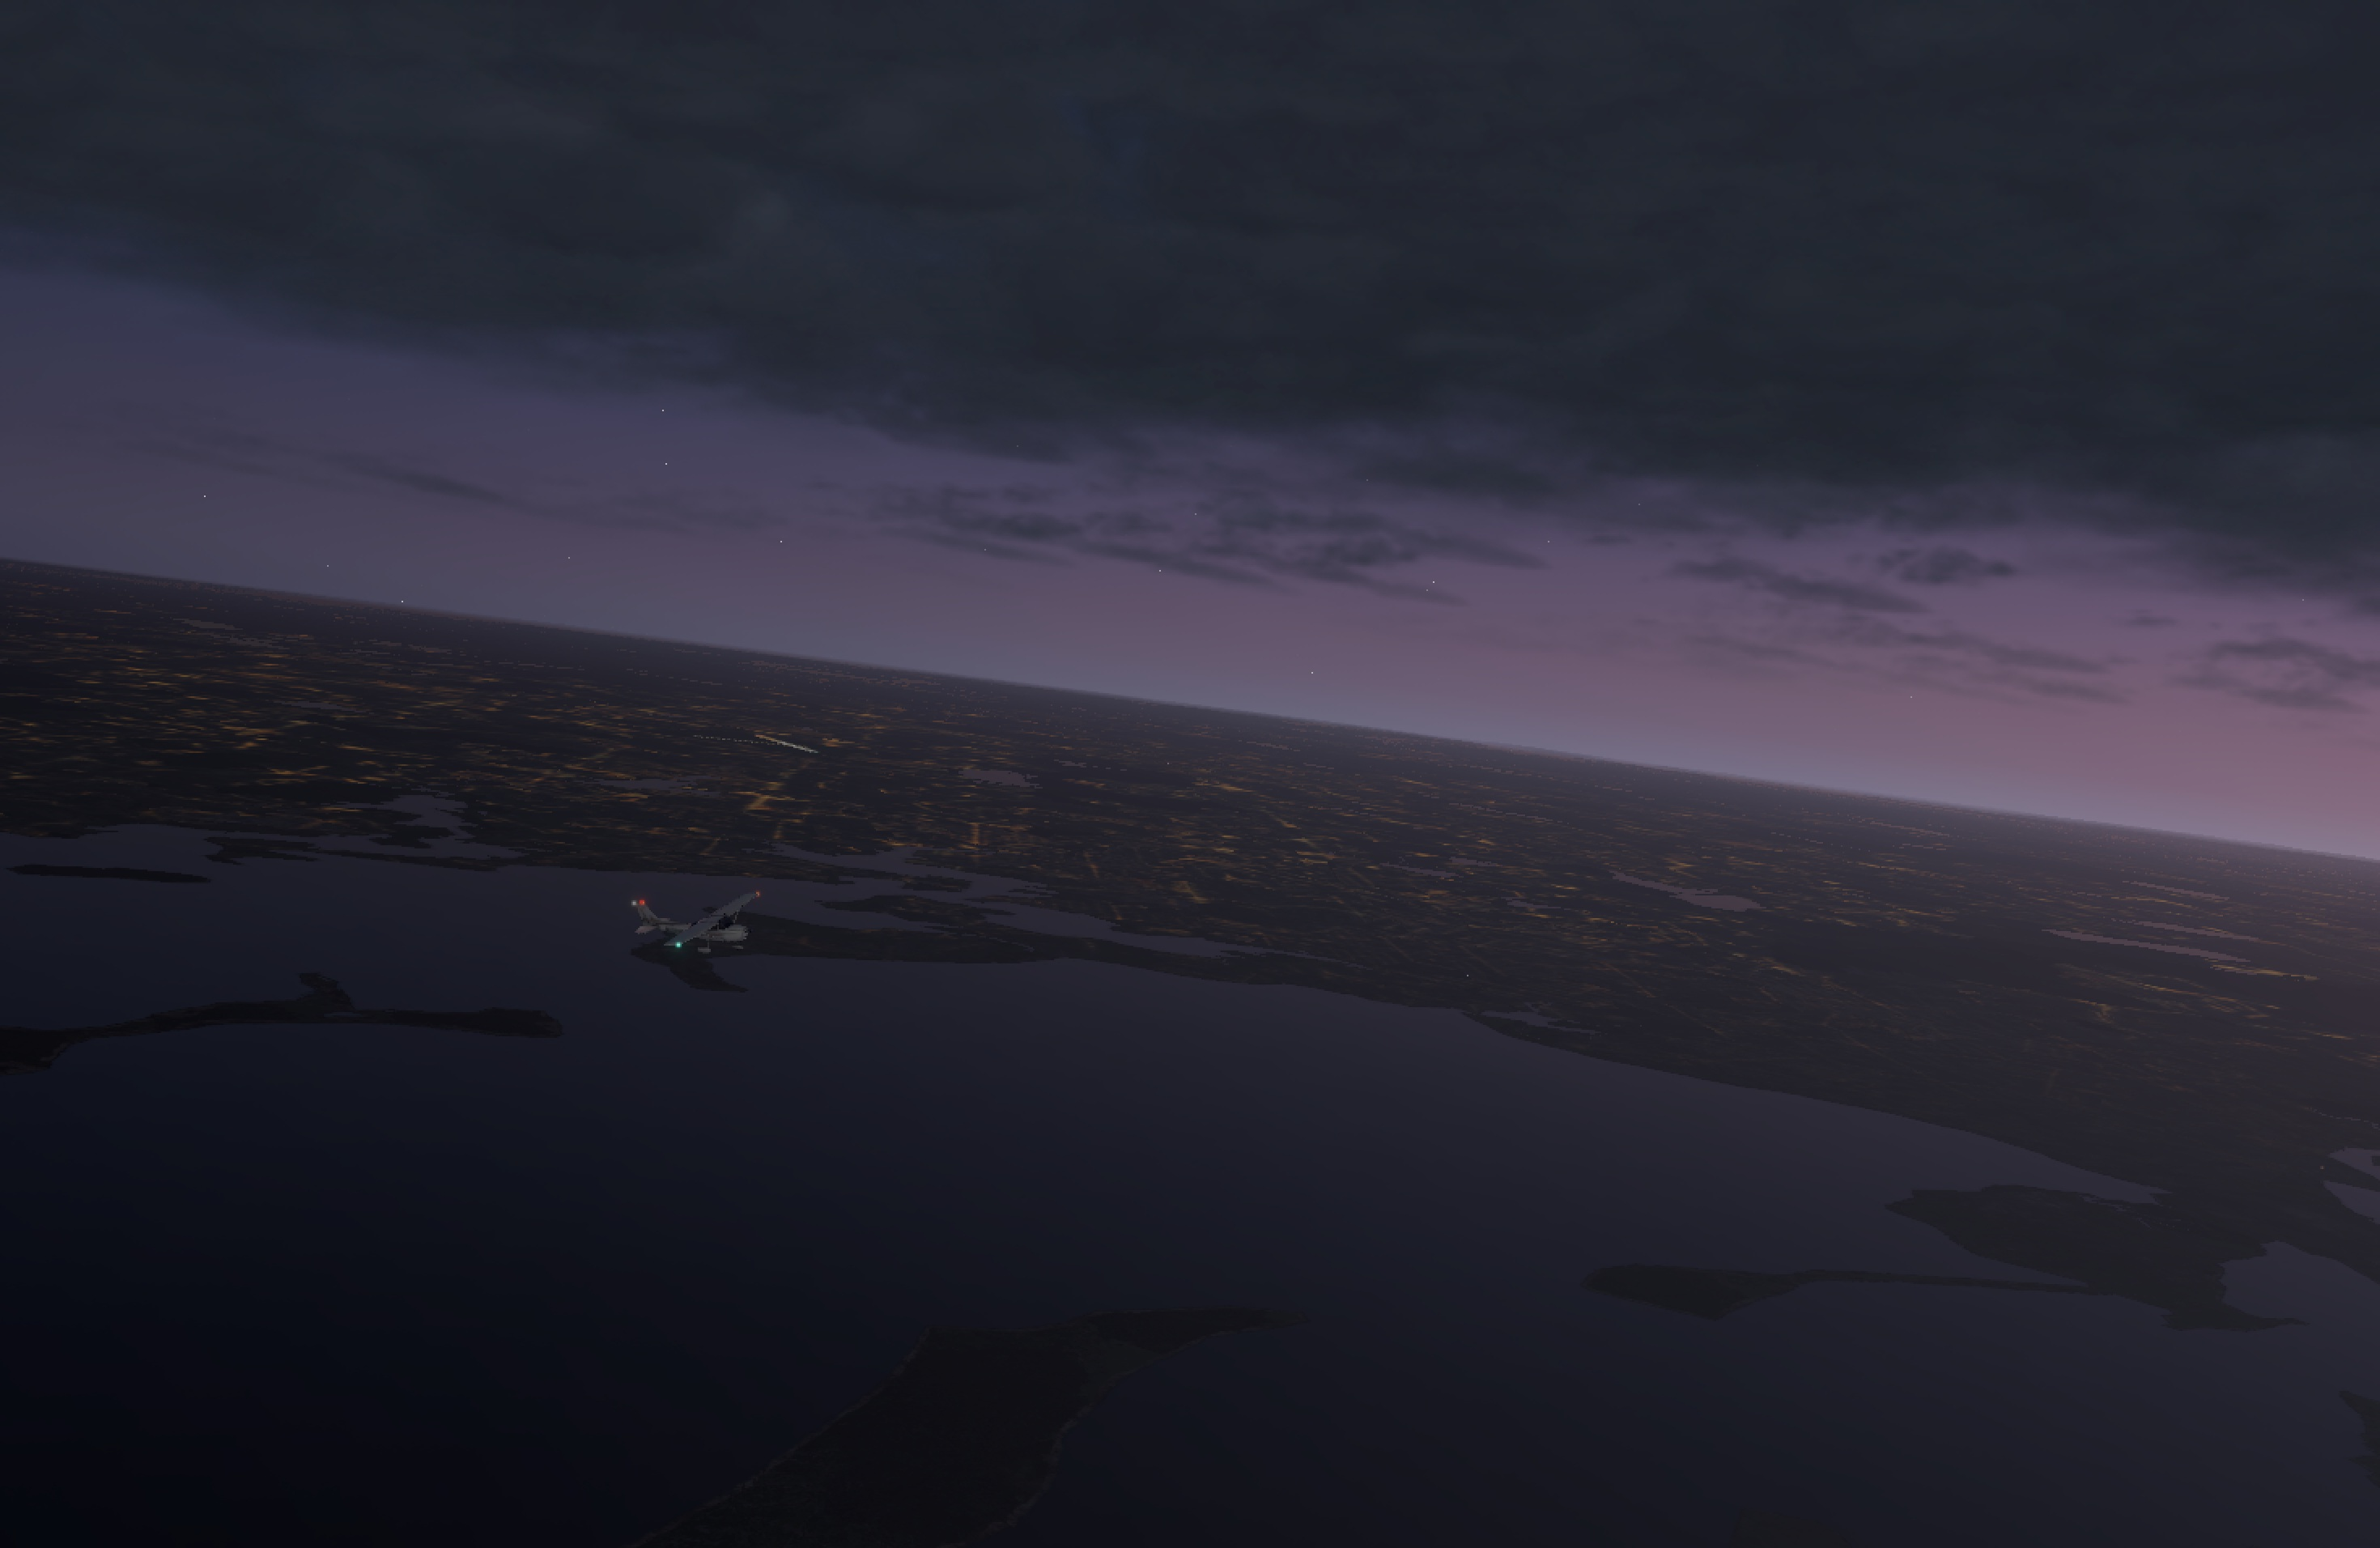aircraft: (657, 906, 779, 951)
